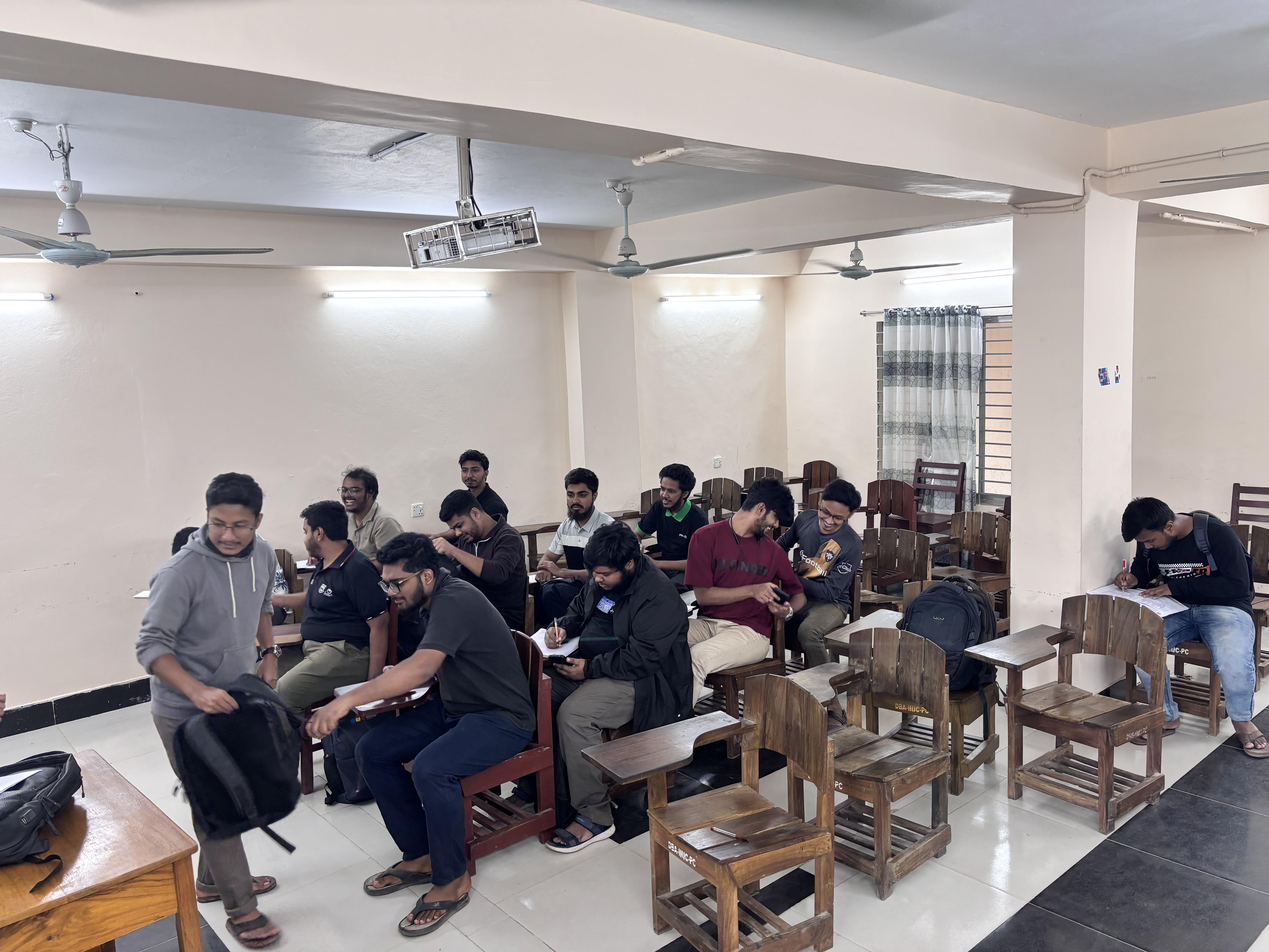copying: (280, 494, 388, 673)
hidden_communication: (688, 474, 865, 592)
invigilator: (169, 467, 273, 698)
no_cheating: (1112, 490, 1242, 658), (545, 527, 673, 679), (363, 533, 470, 700), (432, 491, 528, 601), (540, 468, 619, 588), (638, 461, 705, 569), (444, 442, 504, 507)
side_talking: (333, 462, 390, 537)
using_phone: (710, 471, 808, 654)
